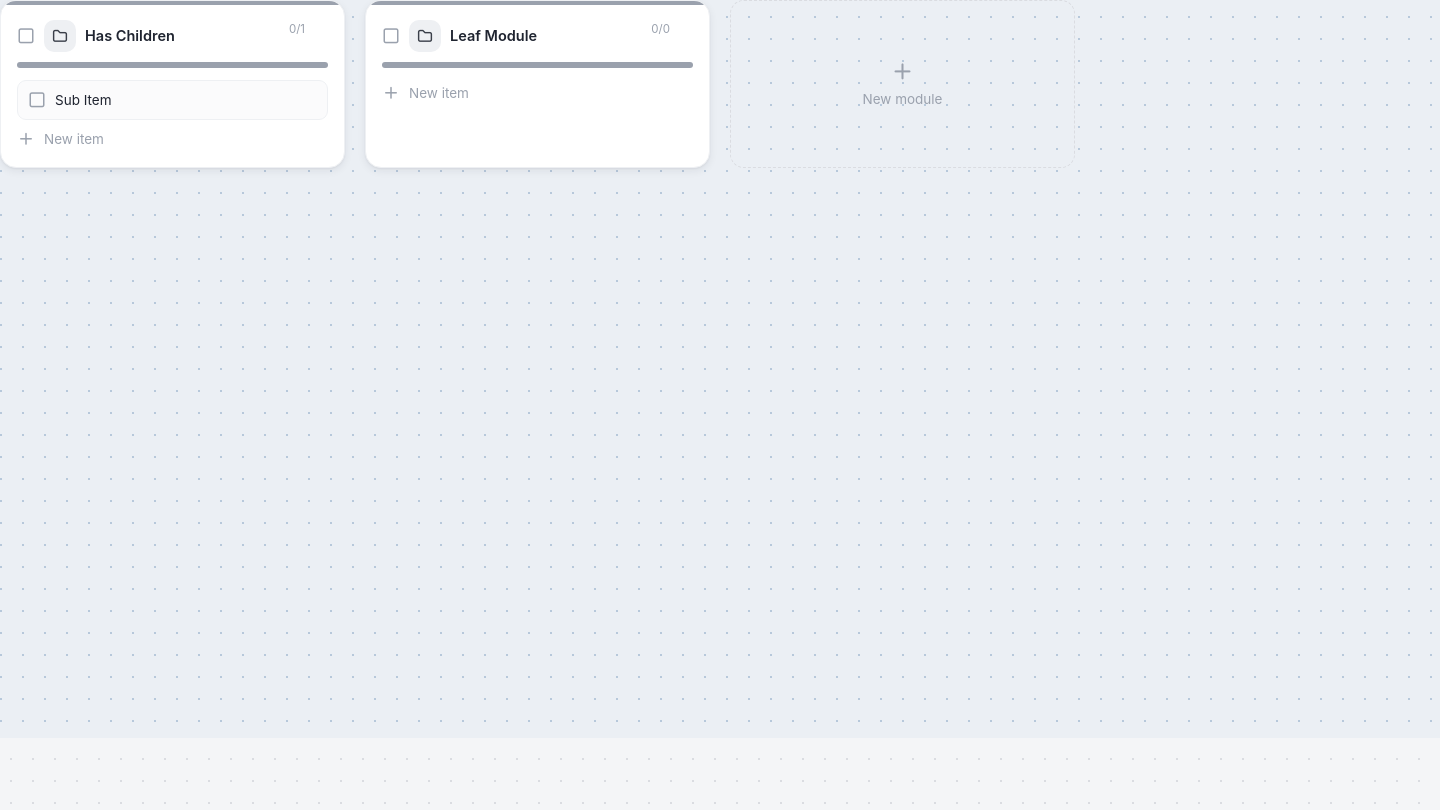
Test: toggling a checklist checkbox updates done/total and does not drill in
This screenshot has width=1440, height=810.
Expected: the text "0/1" is shown, [289,21,305,39]
Click the button named "toggle done" next to "Sub Item": (37, 100) [28,90,46,110]
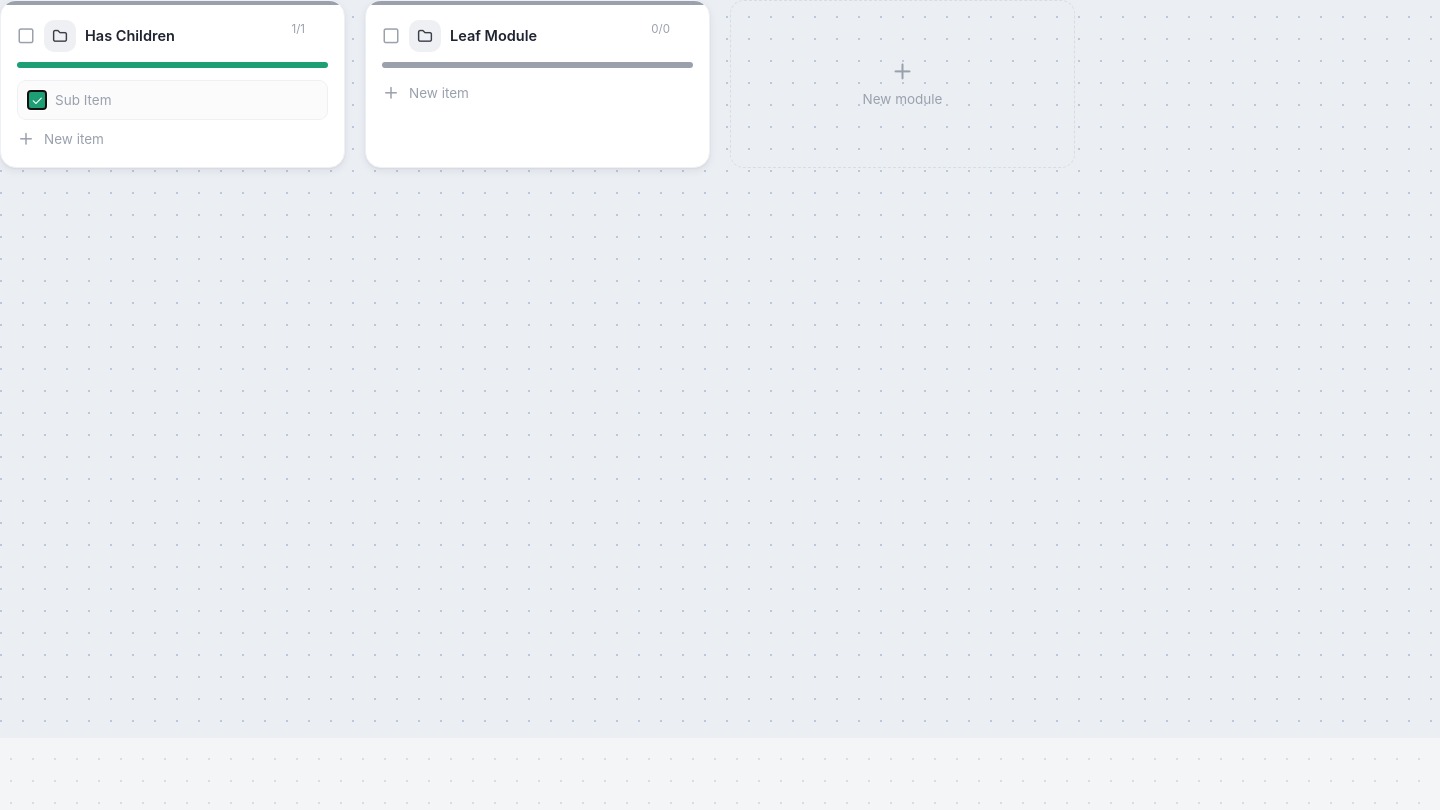
Result: the text "1/1" is shown at [292,21,305,39]
